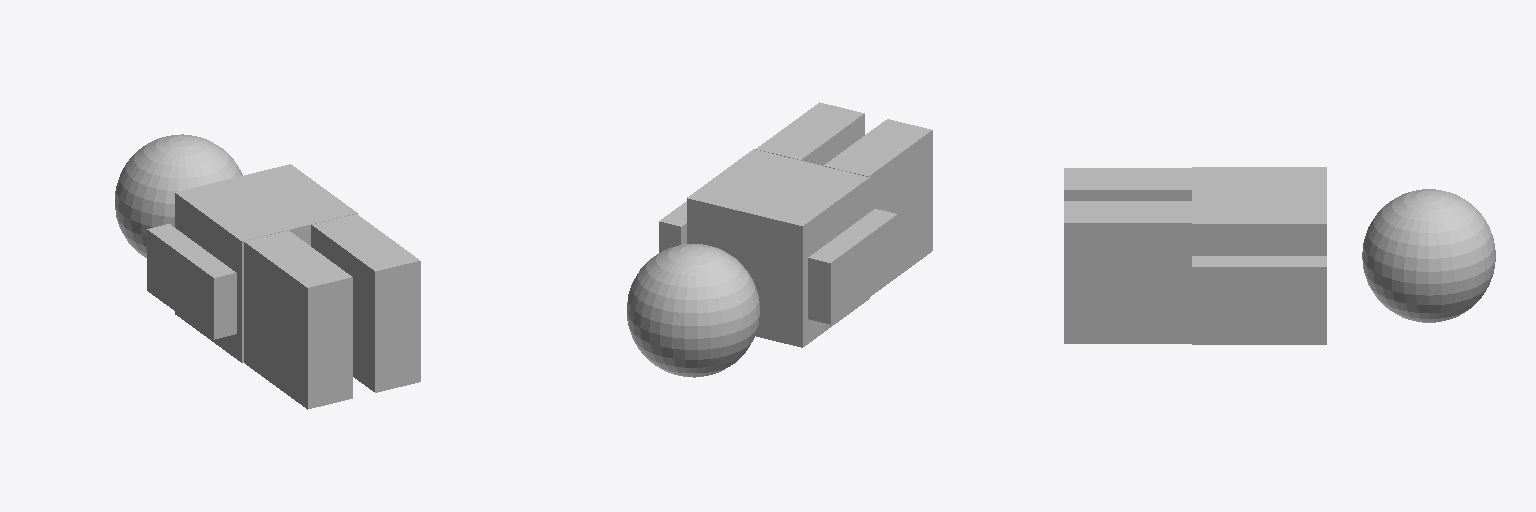
The model's file is rocky_robot_animation_000005.obj.
3 views of the same model, side by side, from view 1: azimuth 30°, elevation 25°; view 2: azimuth 150°, elevation 25°; view 3: azimuth 270°, elevation 25° (orthographic).
Visible parts, largest first — view 1: Cube.001_Cube.005, Cube.002, Cube, Sphere.001, Cube.004; view 2: Cube, Sphere.001, Cube.001_Cube.005, Cube.004, Cube.002, Cube.003; view 3: Cube.002, Cube, Sphere.001, Cube.003, Cube.001_Cube.005.
Part boxes in pixels (x1,y1,x2,y2): Cube.001_Cube.005: (244,230,352,409); Cube.002: (311,214,420,392); Cube: (175,164,357,362); Sphere.001: (115,134,242,257); Cube.004: (147,224,236,339); Cube: (687,149,869,347); Sphere.001: (627,244,759,377); Cube.001_Cube.005: (824,119,932,296); Cube.004: (808,209,897,324); Cube.002: (756,102,864,165); Cube.003: (659,201,686,252); Cube.002: (1064,201,1191,343); Cube: (1192,167,1326,344); Sphere.001: (1362,189,1495,322); Cube.003: (1192,256,1326,328); Cube.001_Cube.005: (1064,168,1191,200).
Bounding box in the file's own units: 0.76 × 0.514 × 1.66.